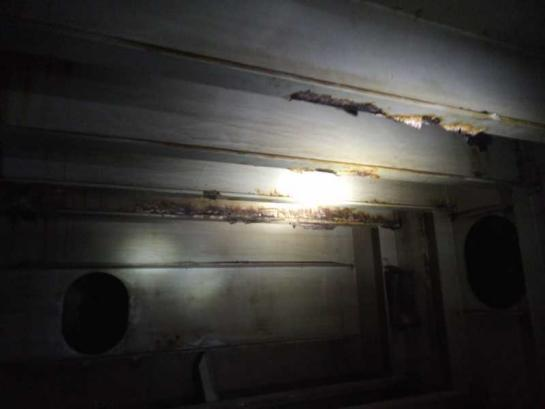corrosion: (114, 191, 276, 228), (281, 84, 389, 126), (288, 201, 382, 228)
